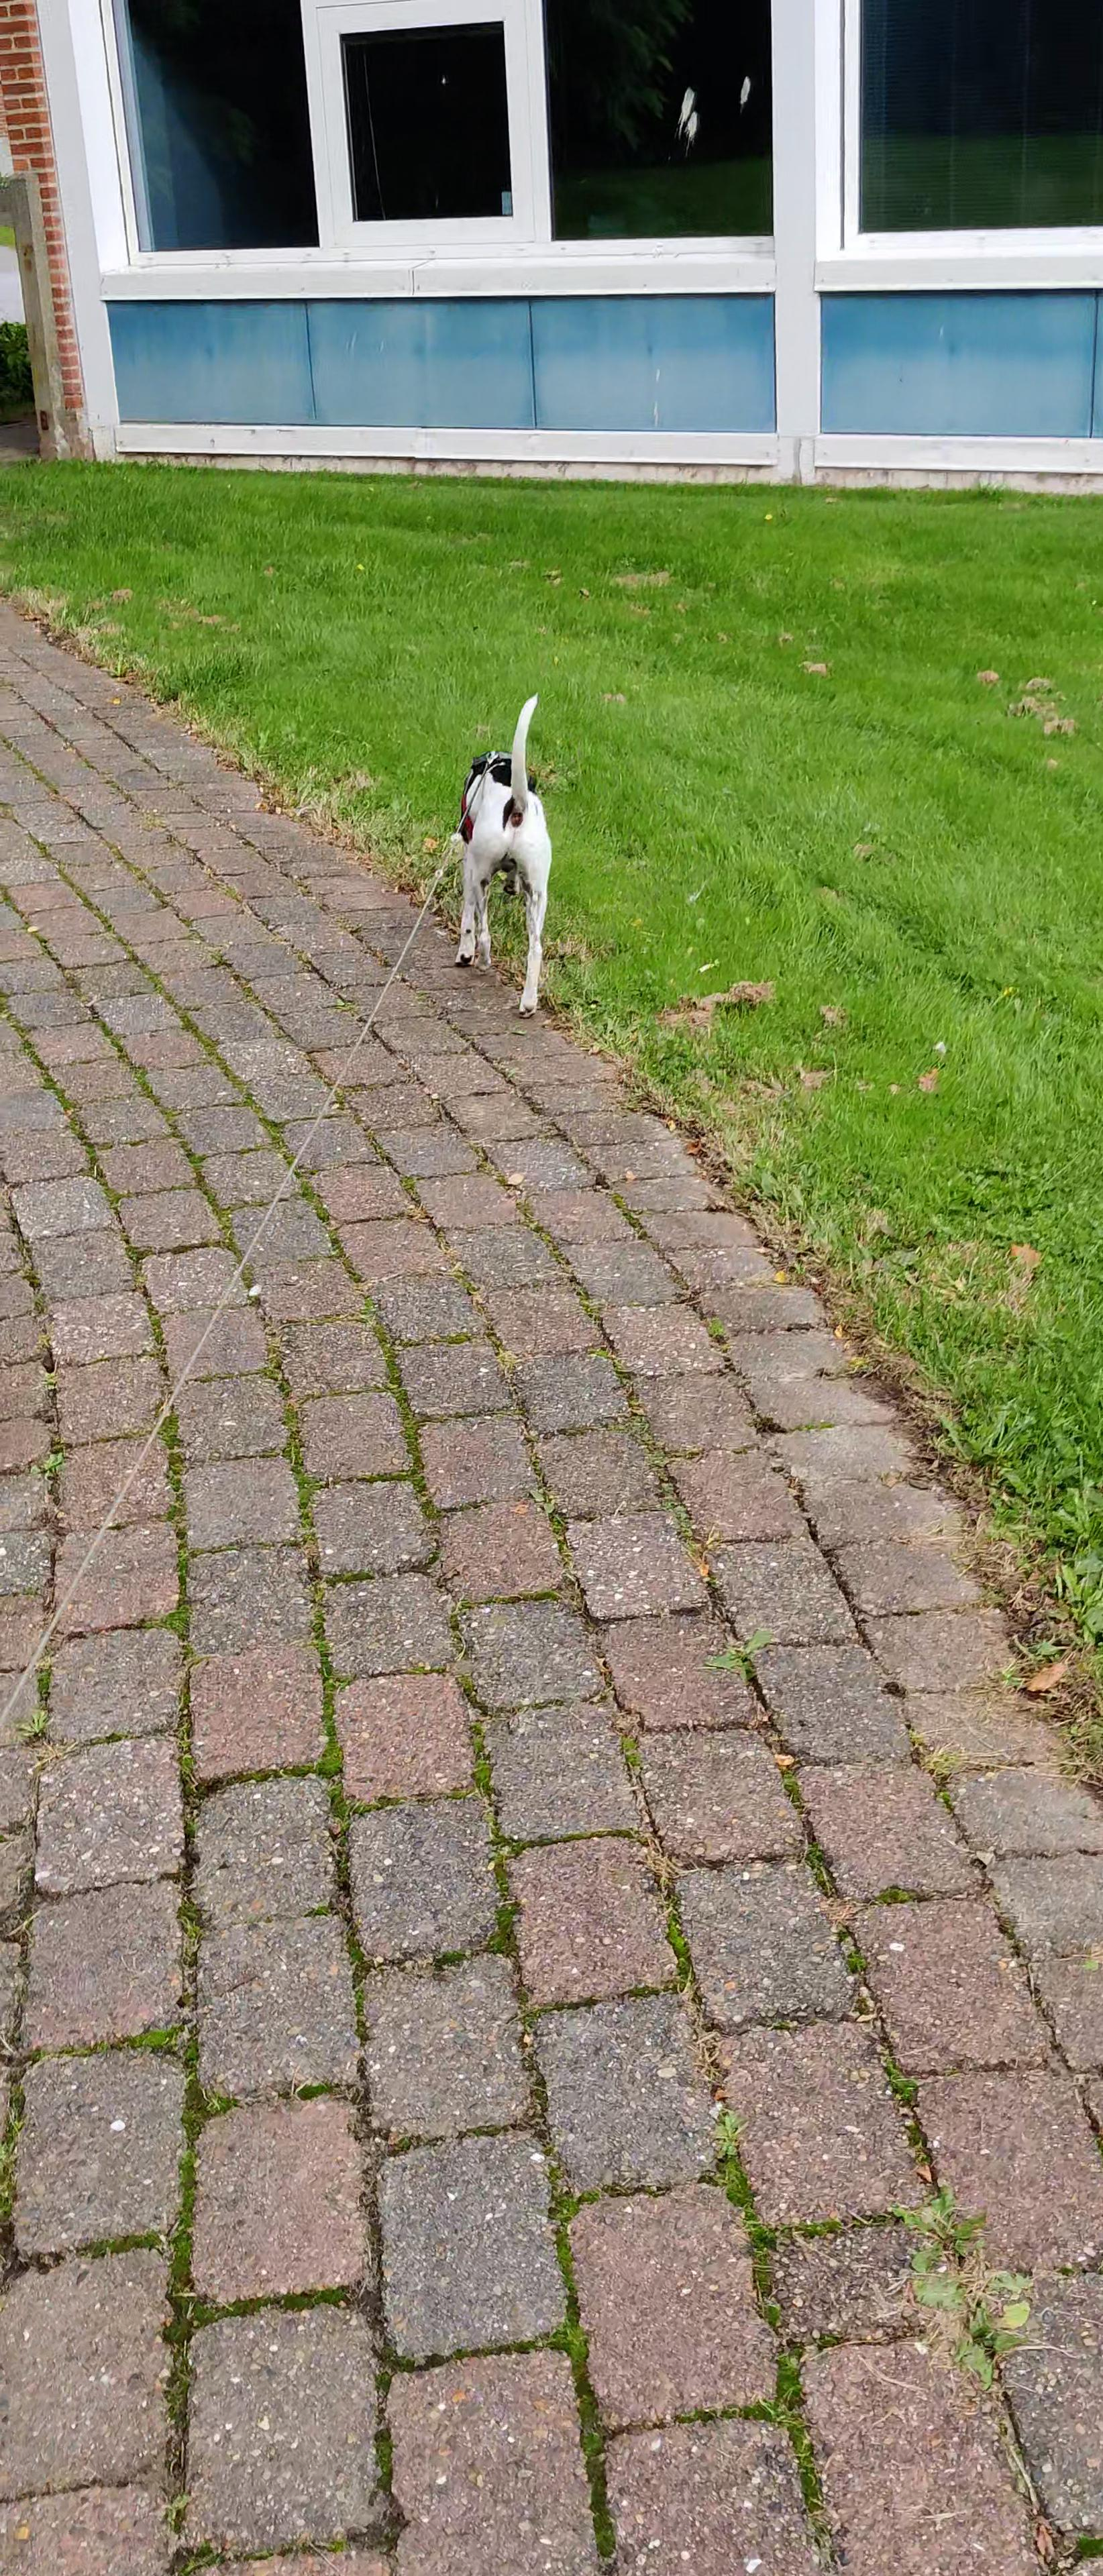Dog: (444, 685, 561, 1020)
